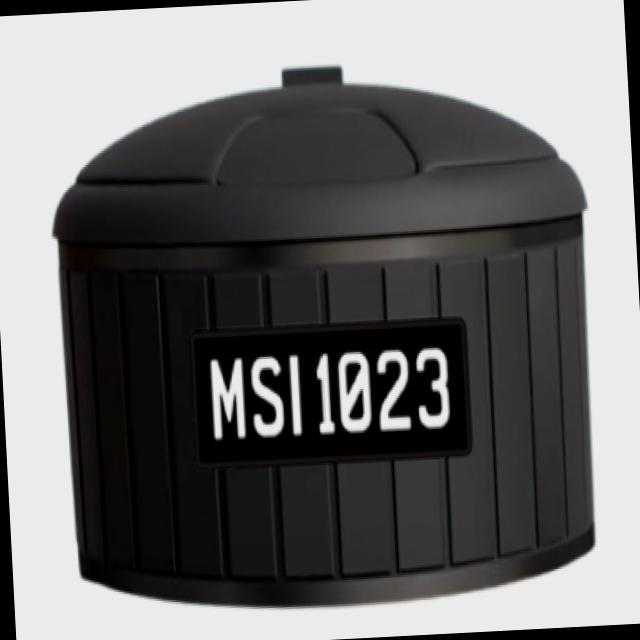bin_plate: (188, 319, 475, 472)
